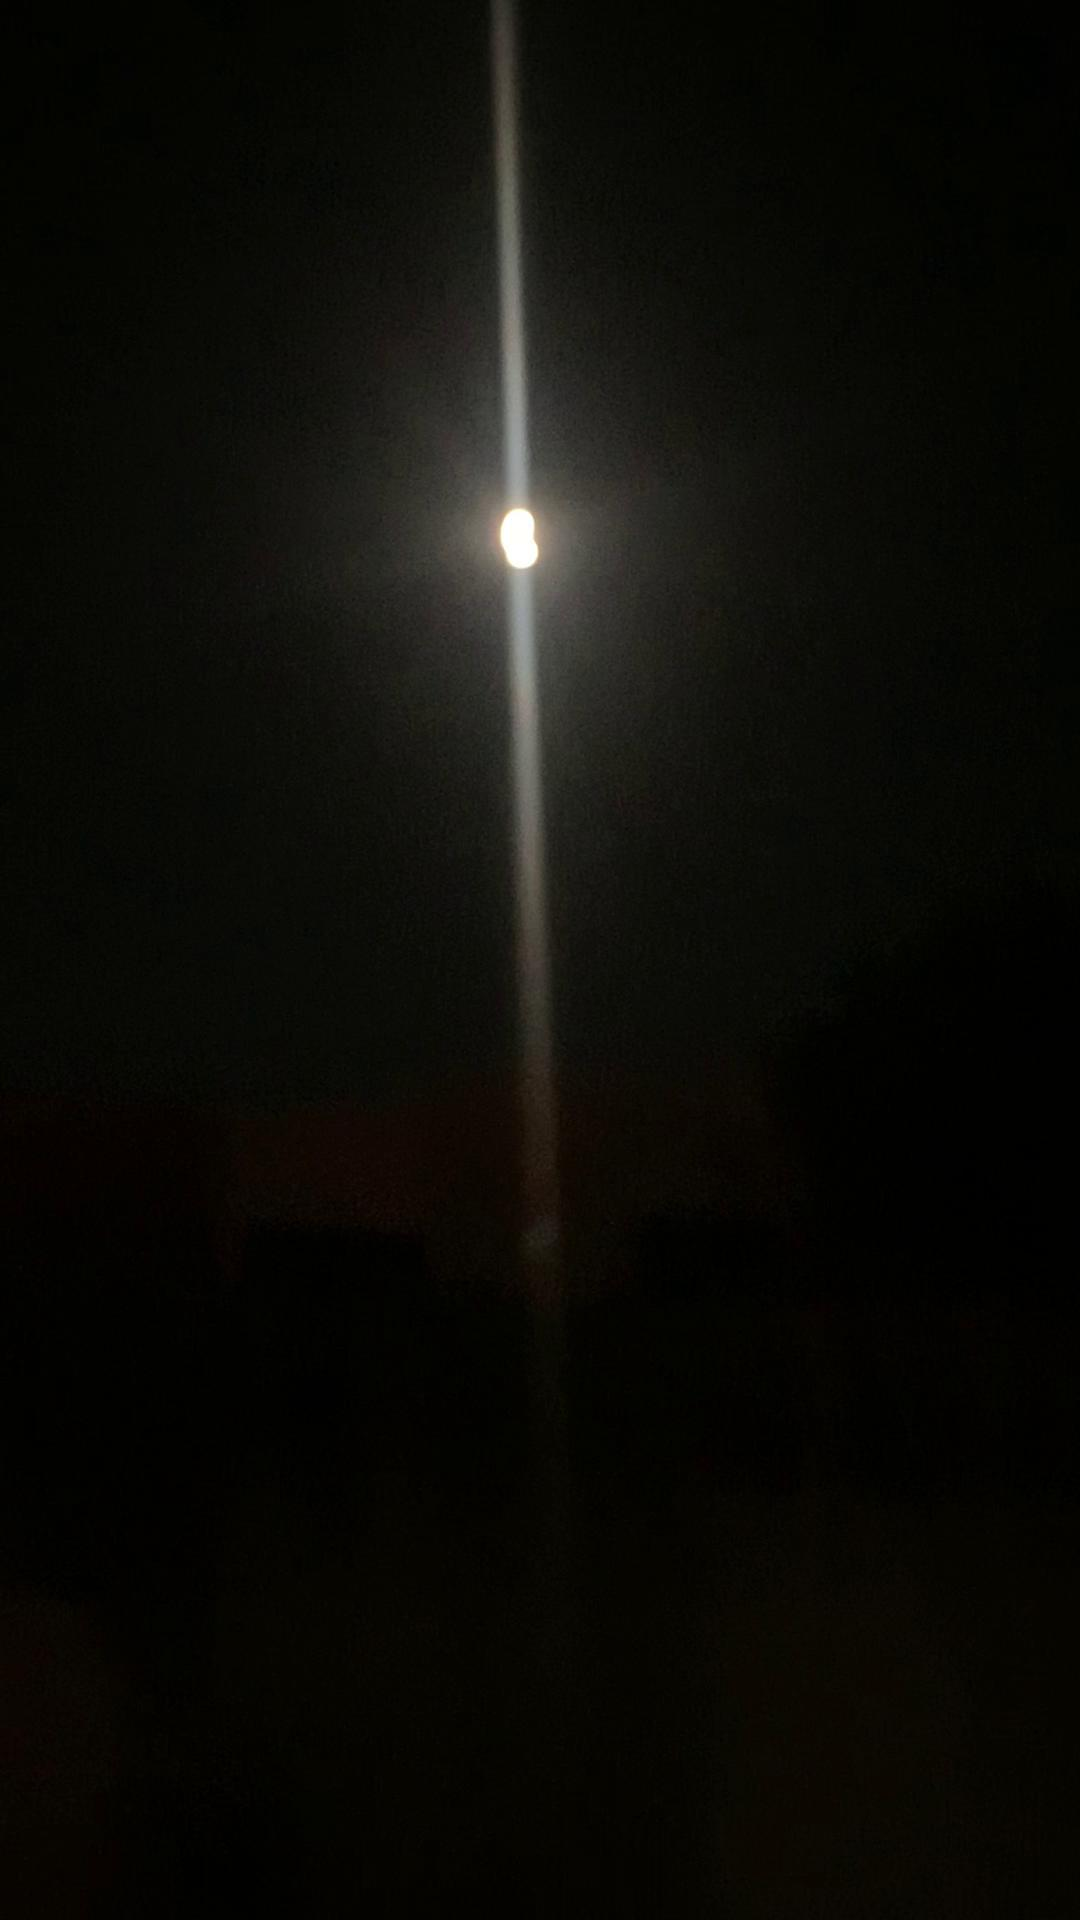moon: (469, 495, 578, 593)
